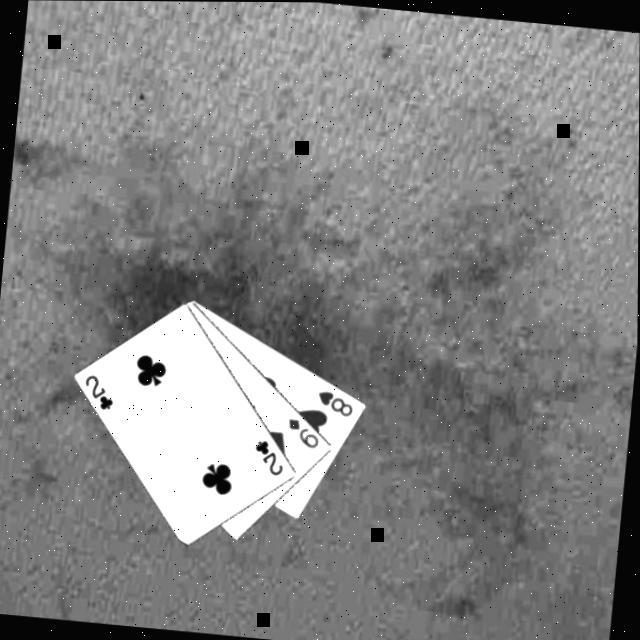2C: (251, 436, 290, 479), (81, 371, 120, 414)
8H: (315, 388, 358, 419)
9D: (284, 415, 325, 452)
